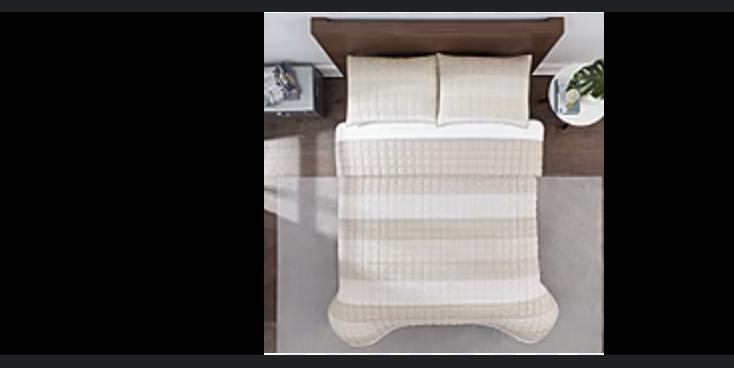Bed-Mattress: (307, 12, 573, 347)
